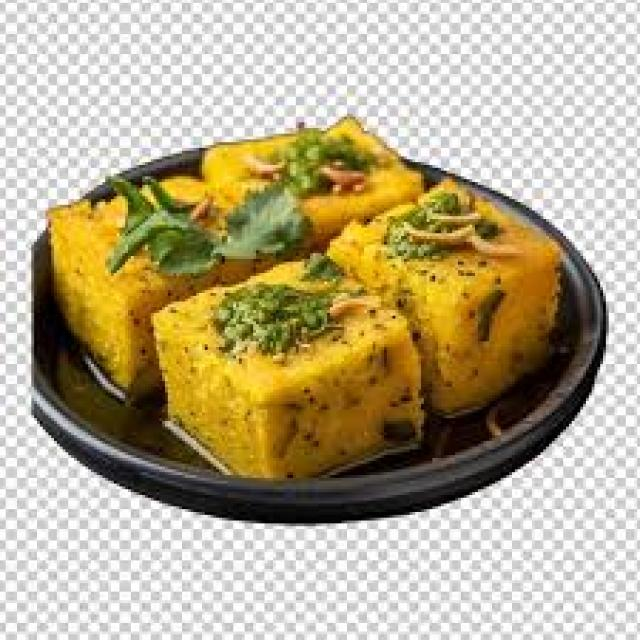DHOKLA: (45, 166, 294, 399), (326, 184, 572, 418), (157, 256, 418, 470), (200, 114, 420, 253)
